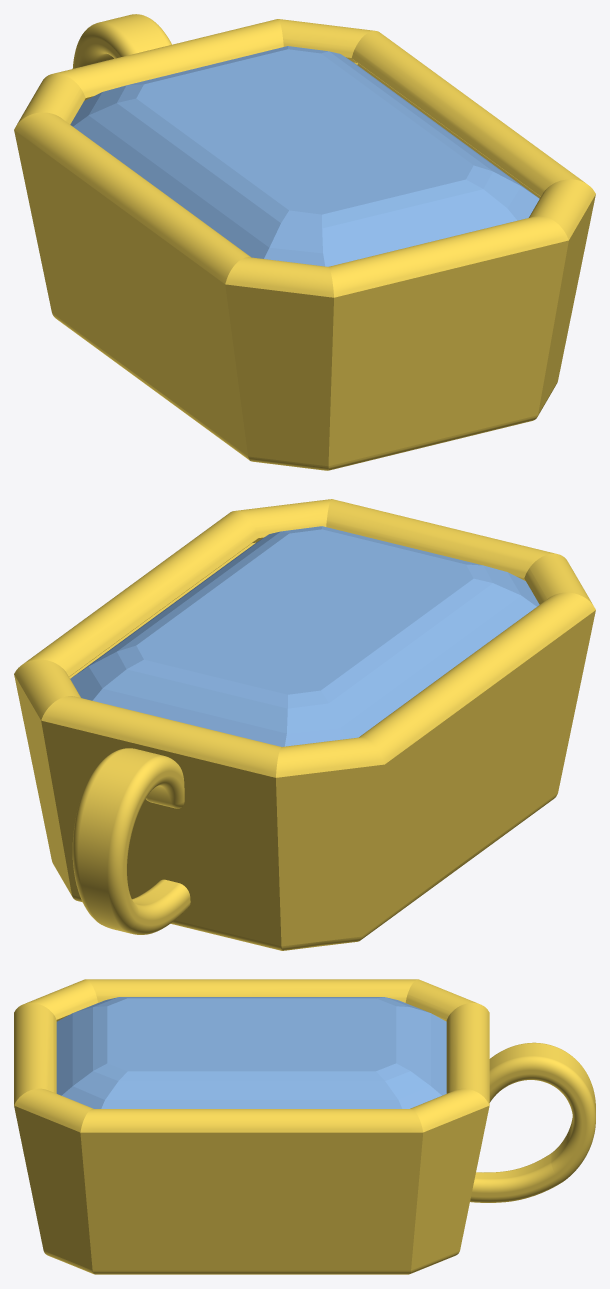
3 renders of one model, top to bottom at view 1: azimuth 30°, elevation 25°; view 2: azimuth 150°, elevation 25°; view 3: azimuth 270°, elevation 25°, orthographic. The views are drawn at different scales.
Visible parts, largest first — view 1: SP-7-0.5CT SINGLE JOINT PENDANT.3dm, Diamond_Emerald; view 2: SP-7-0.5CT SINGLE JOINT PENDANT.3dm, Diamond_Emerald; view 3: SP-7-0.5CT SINGLE JOINT PENDANT.3dm, Diamond_Emerald.
Boxes of the visible parts, x1,y1,x2,y2 form: SP-7-0.5CT SINGLE JOINT PENDANT.3dm: (14,14,595,470); Diamond_Emerald: (70,46,539,266); SP-7-0.5CT SINGLE JOINT PENDANT.3dm: (14,499,595,950); Diamond_Emerald: (70,526,539,746); SP-7-0.5CT SINGLE JOINT PENDANT.3dm: (14,979,595,1274); Diamond_Emerald: (56,997,446,1108).
Size of the model in its own units: 1.97 by 1.13 by 3.29.
